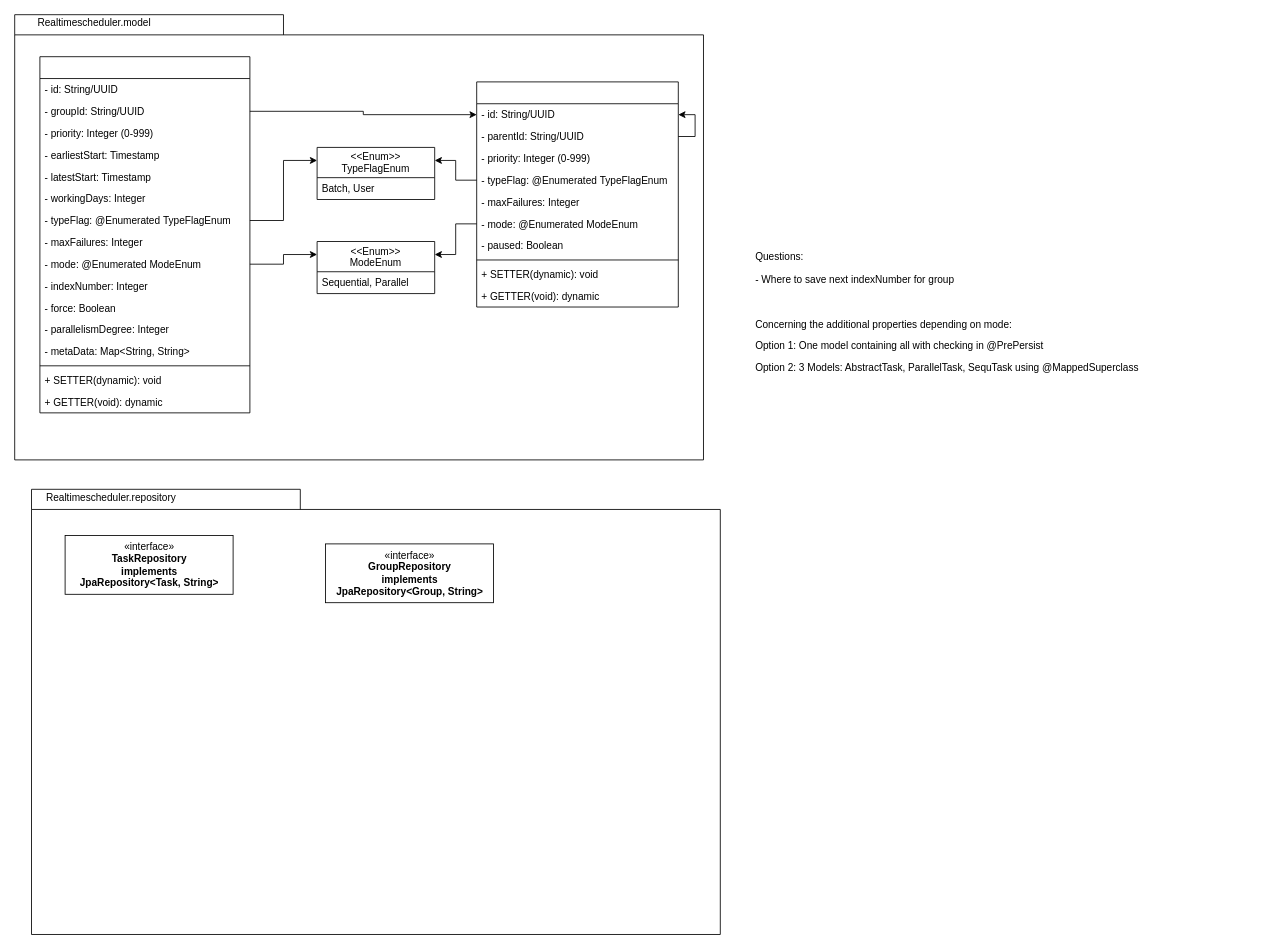
Image size: 1264x949. Some labels were removed from this diagram. The box of each missing label's shape, as (x1, y1, x2, y2) in pixels:
Group: (476, 81, 678, 307)
Task: (39, 56, 250, 413)
